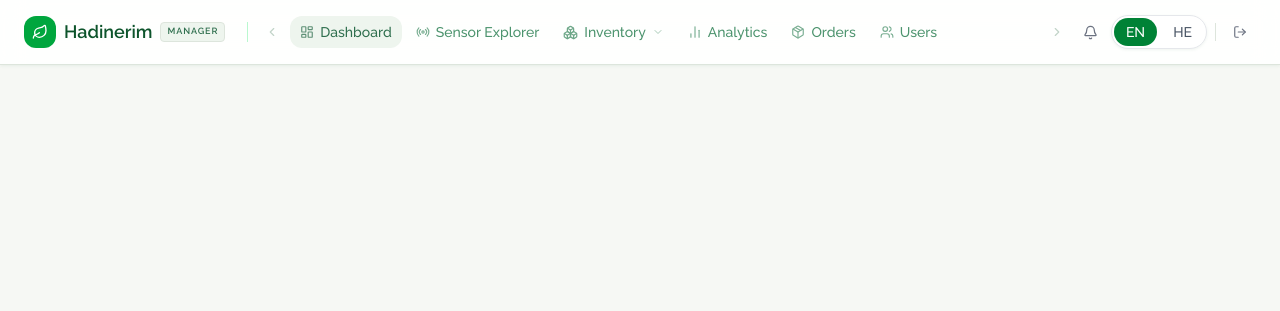
Test case: ManagerNavbar — Inventory dropdown › closes the dropdown on a second click
The width and height of the screenshot is (1280, 311).
Click the button "Inventory".
click(614, 32)  # box [553,16,674,48]
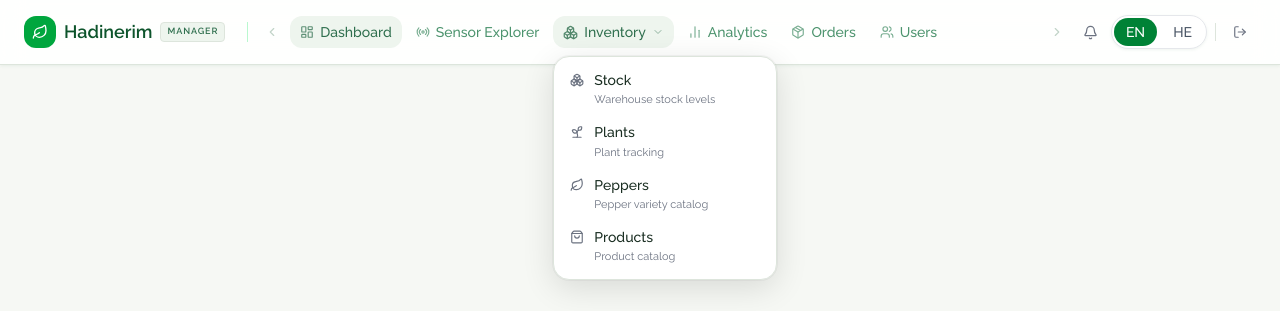
Now the text "Stock" is shown, box [594,72,631,88]
Click the button "Inventory".
click(614, 32)  # box [553,16,674,48]
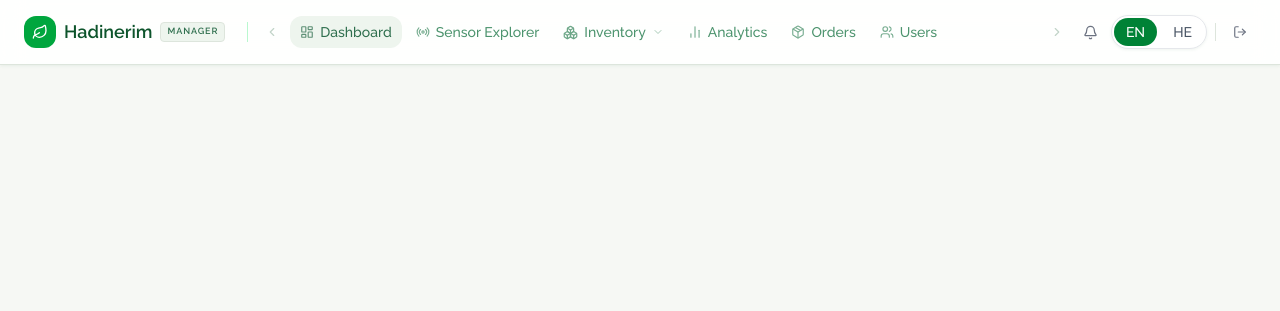
Now the link "Stock" is gone
